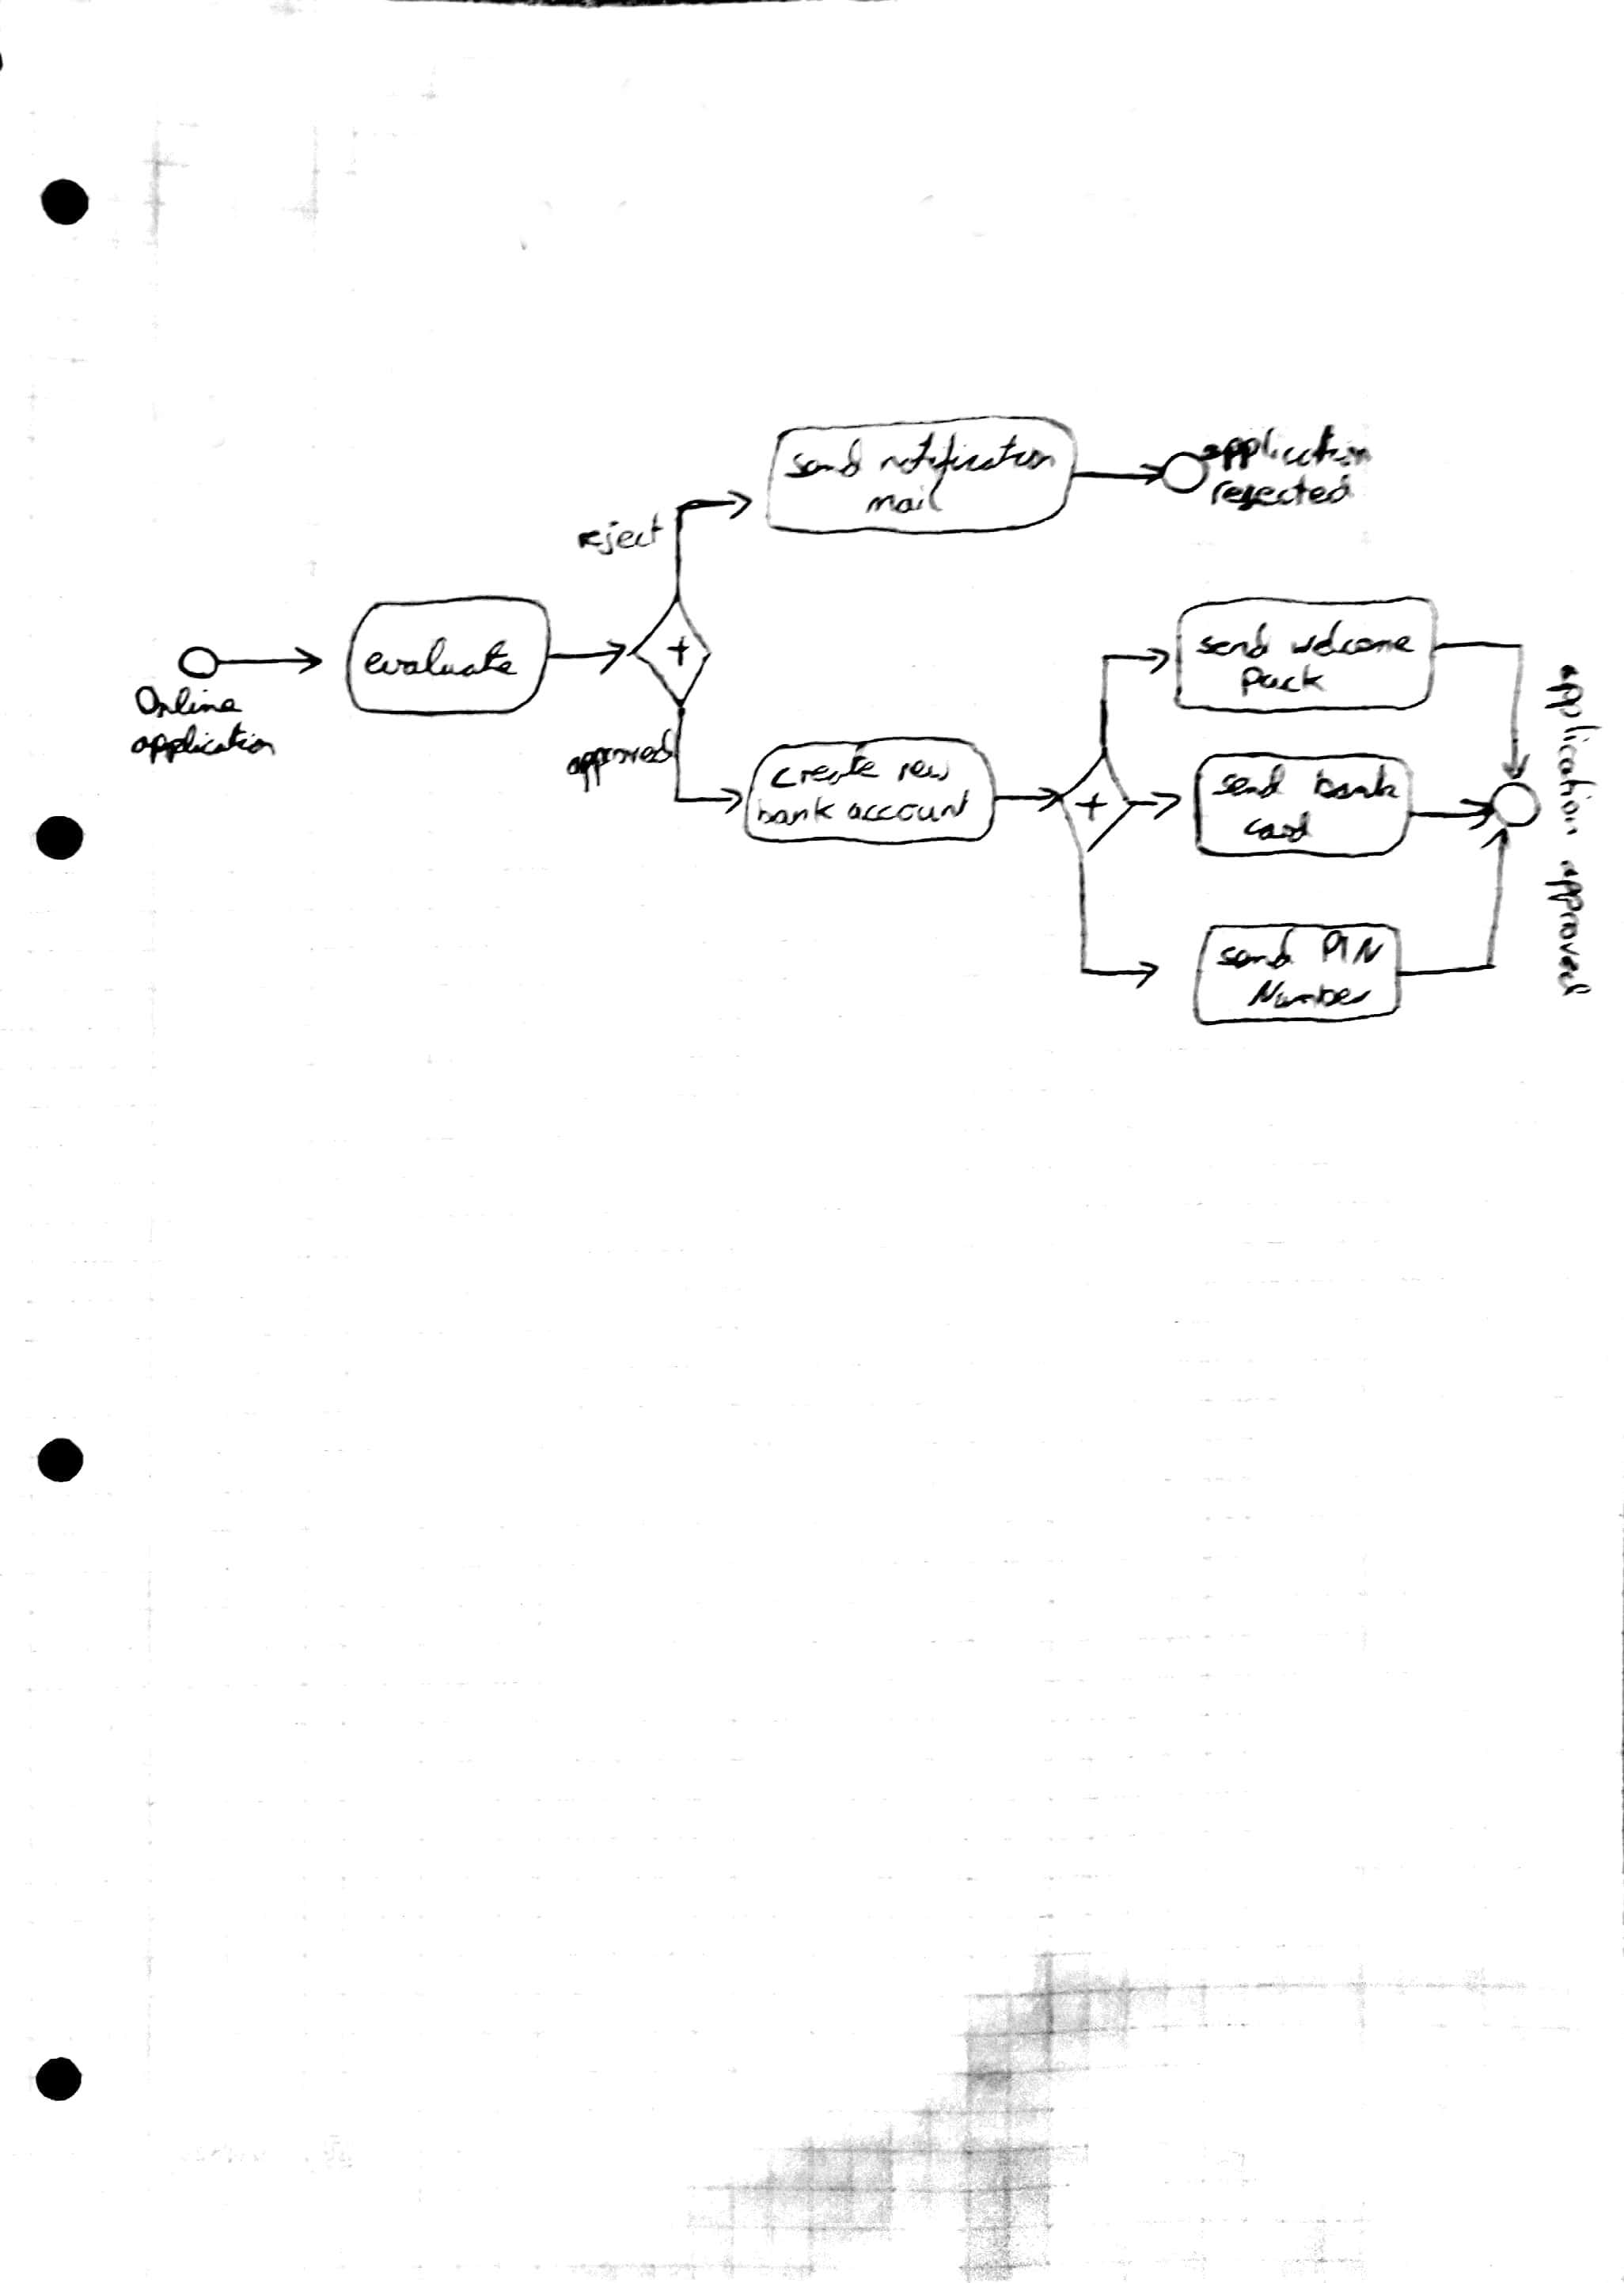Number: (1239, 974, 1378, 1011)
Online: (132, 684, 246, 721)
PIN: (1322, 928, 1385, 970)
account: (842, 789, 975, 830)
application: (1545, 661, 1605, 852), (1200, 424, 1380, 466), (127, 721, 281, 766)
approved: (1545, 856, 1594, 1002), (562, 733, 678, 791)
bank: (1315, 763, 1408, 803), (754, 796, 842, 831)
card: (1239, 810, 1318, 845)
create: (773, 743, 889, 796)
evaluate: (360, 636, 517, 684)
mail: (865, 480, 947, 520)
new: (891, 750, 956, 789)
notification: (877, 431, 1062, 485)
pack: (1239, 663, 1329, 699)
reject: (568, 508, 675, 562)
rejected: (1206, 471, 1359, 515)
send: (782, 438, 870, 487), (1213, 931, 1309, 975), (1188, 620, 1285, 664), (1213, 763, 1290, 801)
welcome: (1283, 619, 1417, 661)
